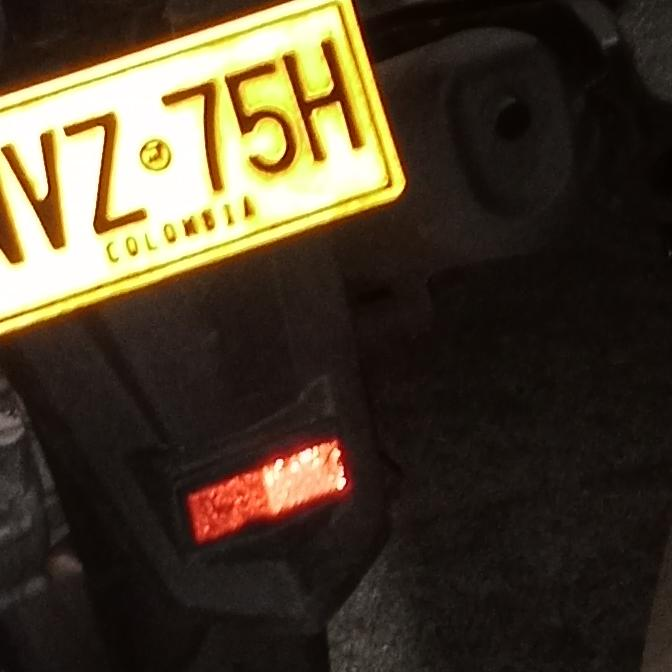plates: (0, 0, 429, 350)
